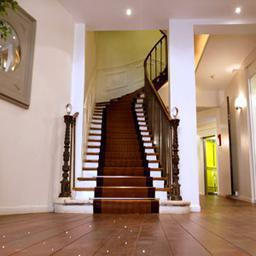Escaleras: (82, 98, 172, 210)
